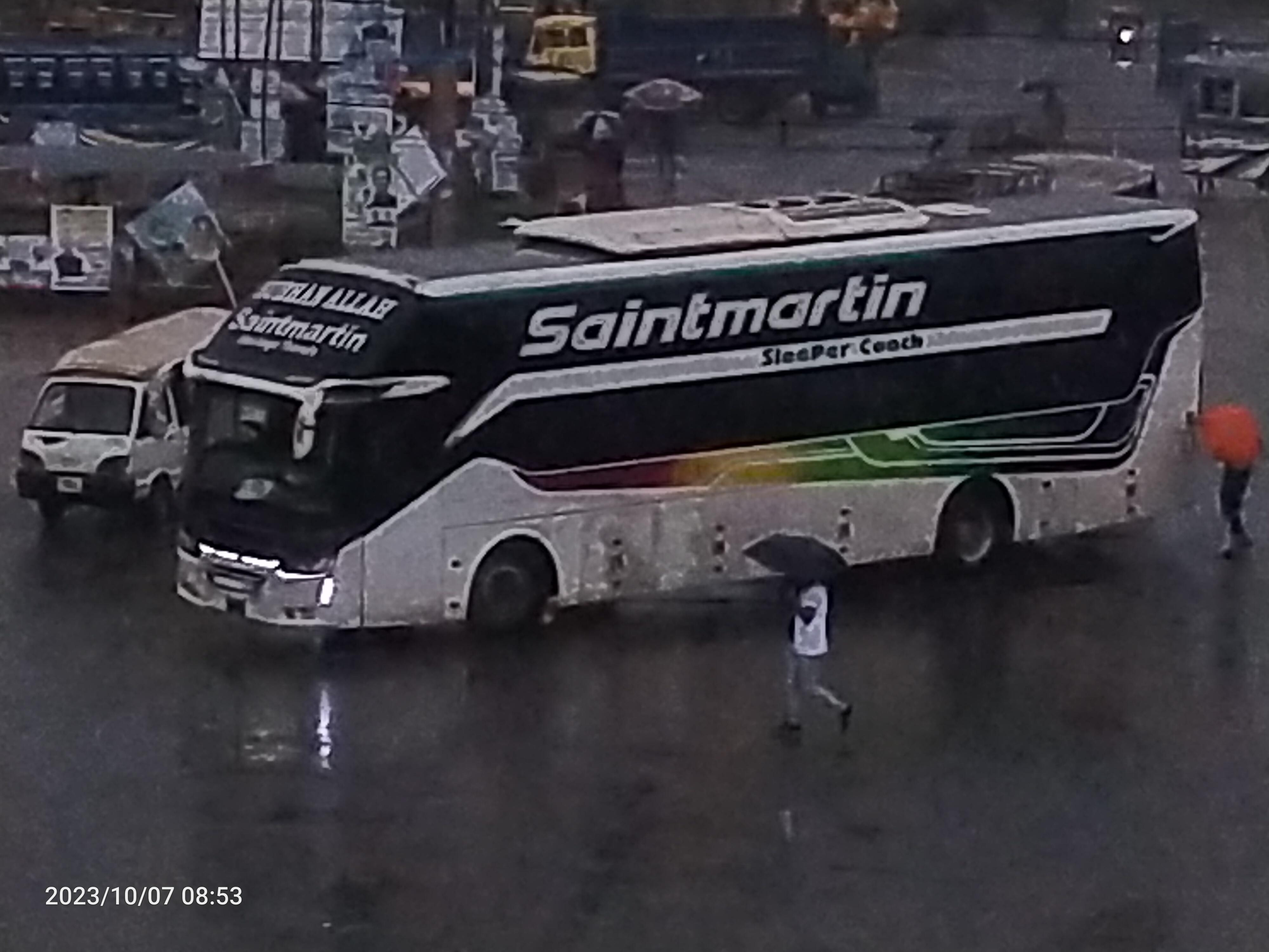Bus: (141, 163, 1239, 666), (0, 23, 261, 168)
Car: (8, 273, 273, 548)
Truck: (523, 0, 851, 118)
